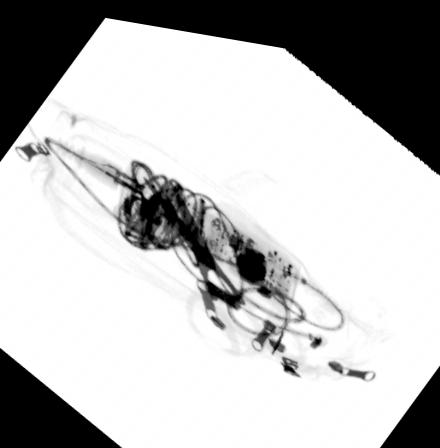Scissors: (170, 182, 288, 348)
